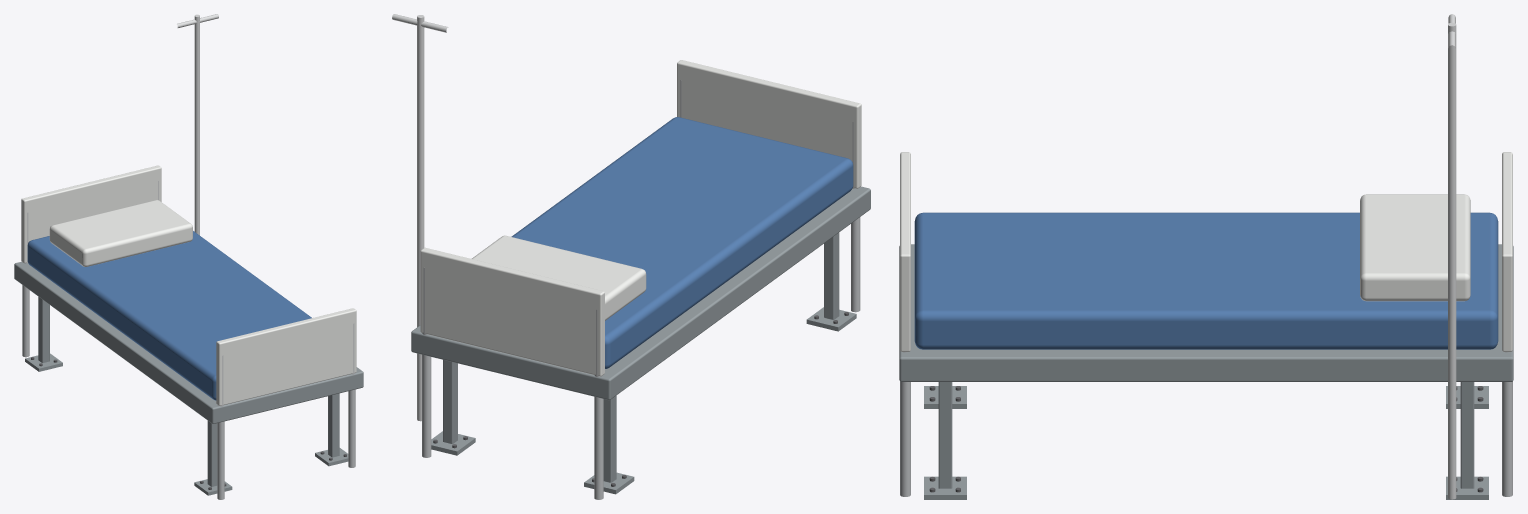
File: prison-complex-builder-infirmary-bed-6c6d668e__25679.glb
The picture shows the model from 3 angles, left to right: view 1: azimuth 30°, elevation 25°; view 2: azimuth 150°, elevation 25°; view 3: azimuth 270°, elevation 25°; orthographic projection. The views are drawn at different scales.
Parts seen in each view (by area): view 1: infirmary-bed; view 2: infirmary-bed; view 3: infirmary-bed.
Boxes of the visible parts, x1,y1,x2,y2 form: infirmary-bed: (14,14,363,499); infirmary-bed: (392,14,870,499); infirmary-bed: (899,14,1513,499).
Bounding box in the file's own units: 1.07 × 1.75 × 2.
